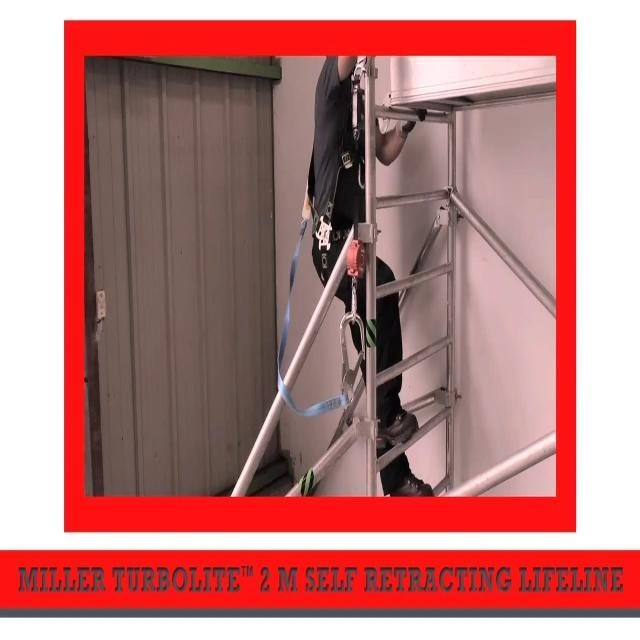Arnes_seguridad: (304, 42, 371, 304)
